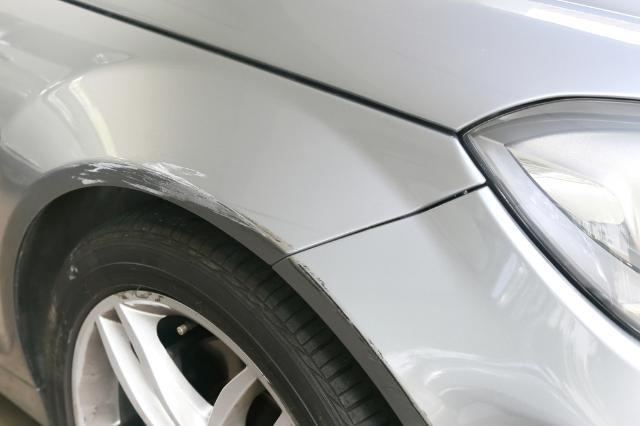scratch: (71, 158, 287, 246), (287, 257, 389, 374)
